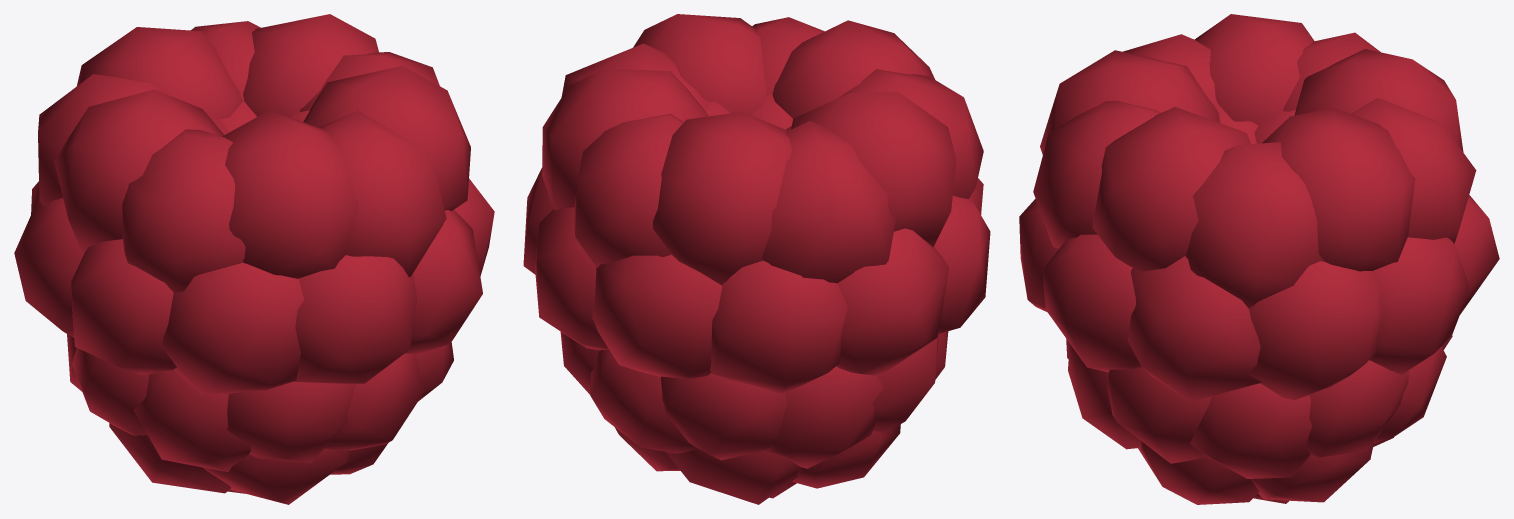
File: malina.gltf
3 renders of one model, left to right at view 1: azimuth 30°, elevation 25°; view 2: azimuth 150°, elevation 25°; view 3: azimuth 270°, elevation 25°, orthographic.
Parts seen in each view (by area): view 1: Icosphere.001; view 2: Icosphere.001; view 3: Icosphere.001.
Part boxes in pixels (left/top/right/bottom): Icosphere.001: left=14, top=14, right=494, bottom=504; Icosphere.001: left=523, top=14, right=990, bottom=504; Icosphere.001: left=1019, top=14, right=1499, bottom=504.
Size of the model in its own units: 1.25 by 1.23 by 1.28.
1 material, 1 textured.
